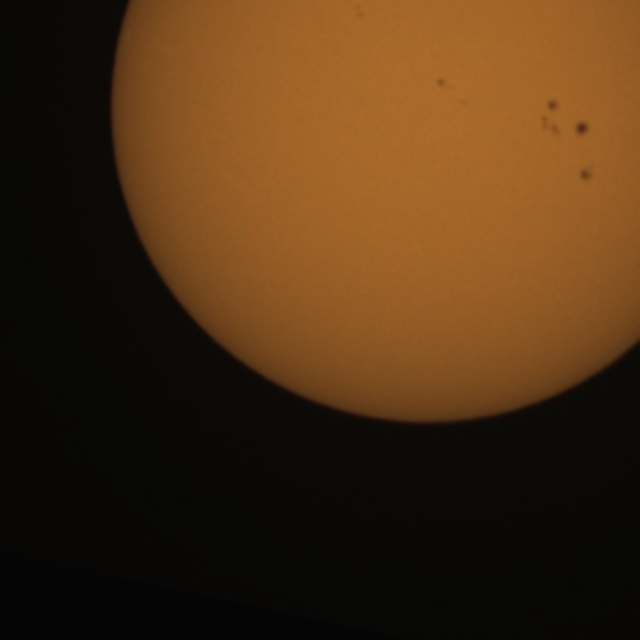sunspot: (540, 102, 593, 142), (436, 77, 471, 108), (541, 97, 564, 138), (577, 165, 596, 185), (573, 119, 591, 139), (351, 2, 367, 22), (435, 76, 448, 90)
